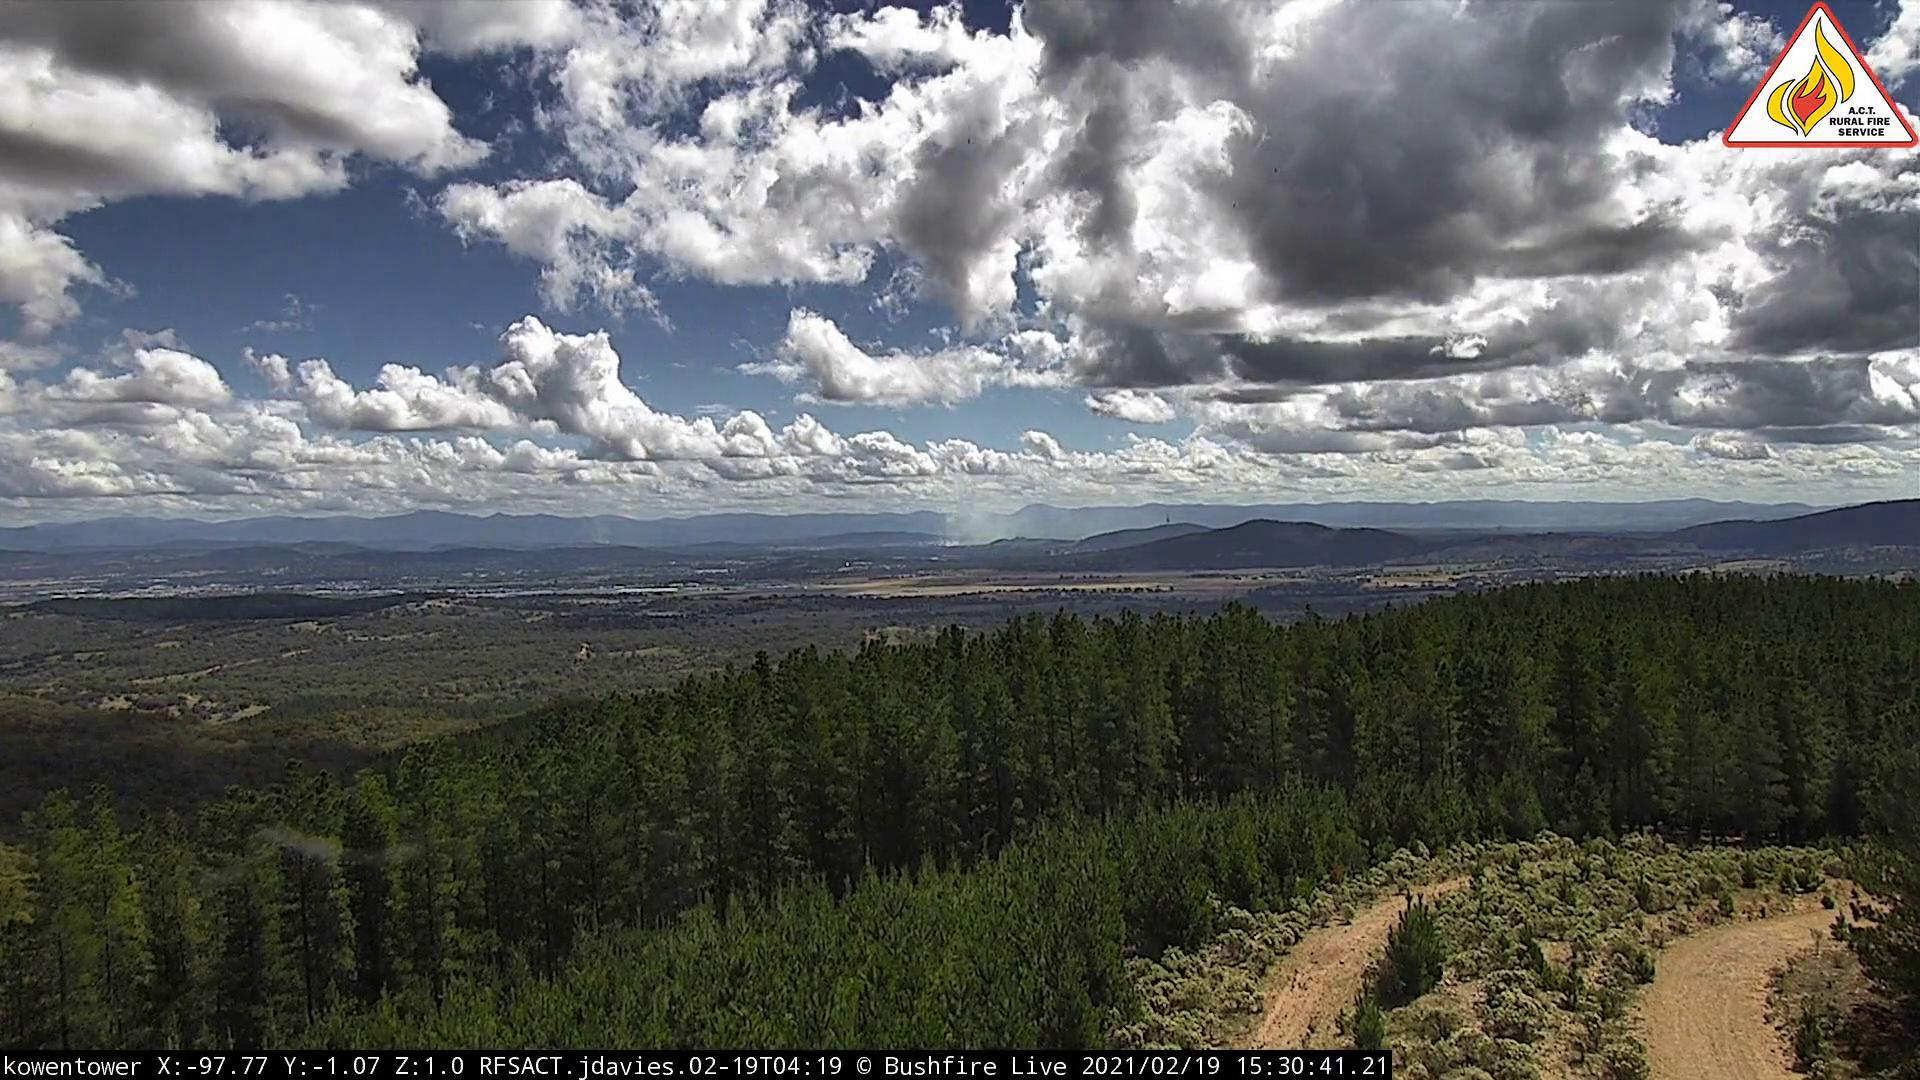Smoke: (944, 495, 1034, 555), (593, 527, 618, 556)
